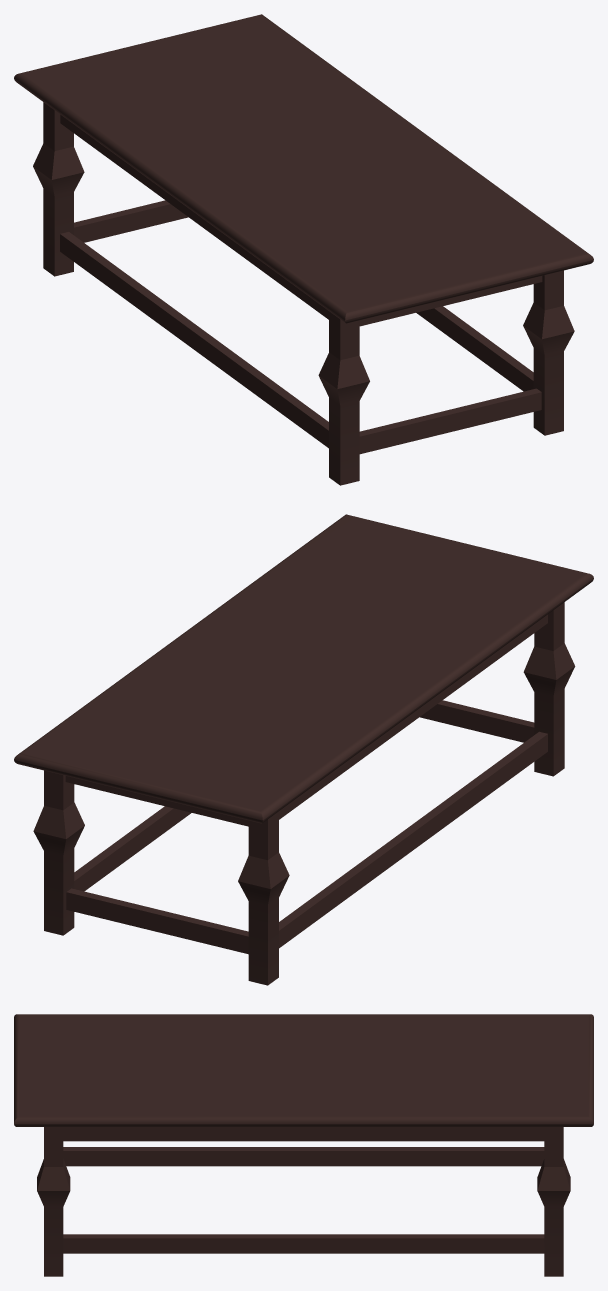
Rendered from GrandeTable_62.fbx.
3 views of the same model, one above another, from view 1: azimuth 30°, elevation 25°; view 2: azimuth 150°, elevation 25°; view 3: azimuth 270°, elevation 25° (orthographic). The views are drawn at different scales.
Visible parts, largest first — view 1: pCube97, pCube99, polySurface27, polySurface24, polySurface26, pCube101, pCube98, pCube100; view 2: pCube97, pCube99, polySurface26, polySurface25, polySurface27, pCube100, pCube98, pCube101; view 3: pCube97, pCube98, pCube99, polySurface25, polySurface24.
Part boxes in pixels (box(x1,y1,x2,y2)): pCube97: box(14, 14, 593, 326); pCube99: box(60, 232, 328, 448); polySurface27: box(318, 311, 369, 485); polySurface24: box(523, 270, 574, 435); polySurface26: box(33, 102, 84, 276); pCube101: box(359, 388, 541, 454); pCube98: box(416, 306, 533, 391); pCube100: box(74, 200, 188, 242); pCube97: box(14, 514, 593, 826); pCube99: box(279, 731, 547, 948); polySurface26: box(238, 811, 289, 985); polySurface25: box(33, 770, 84, 935); polySurface27: box(523, 602, 575, 776); pCube100: box(66, 888, 248, 954); pCube98: box(74, 806, 191, 891); pCube101: box(420, 700, 534, 742); pCube97: box(14, 1014, 593, 1141); pCube98: box(63, 1234, 544, 1253); pCube99: box(63, 1147, 544, 1166); polySurface25: box(537, 1127, 570, 1276); polySurface24: box(37, 1127, 70, 1276).
Size of the model in its own units: 56.23 by 40.23 by 130.
